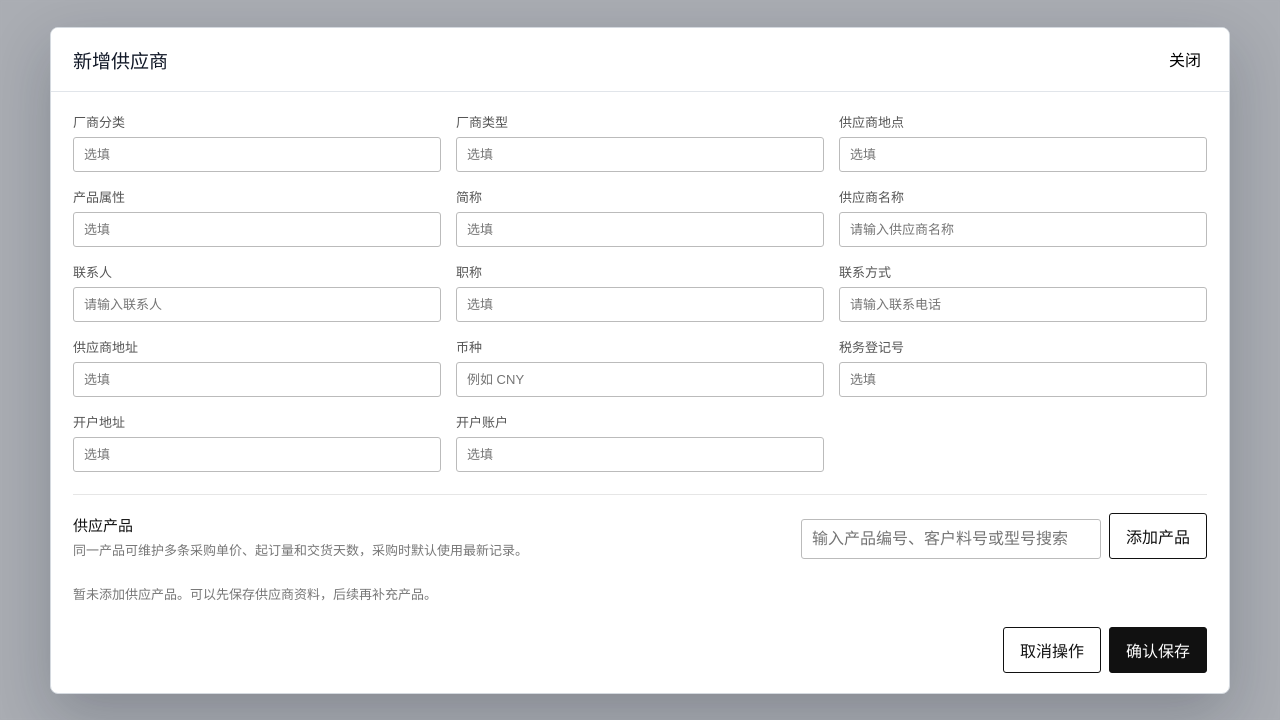
places product actions together in the product panel header
The image size is (1280, 720).
Type "P90" into the dropdown with placeholder "输入产品编号、客户料号或型号搜索".
click(951, 538); type("P90")  # box x1=801 y1=518 x2=1101 y2=558
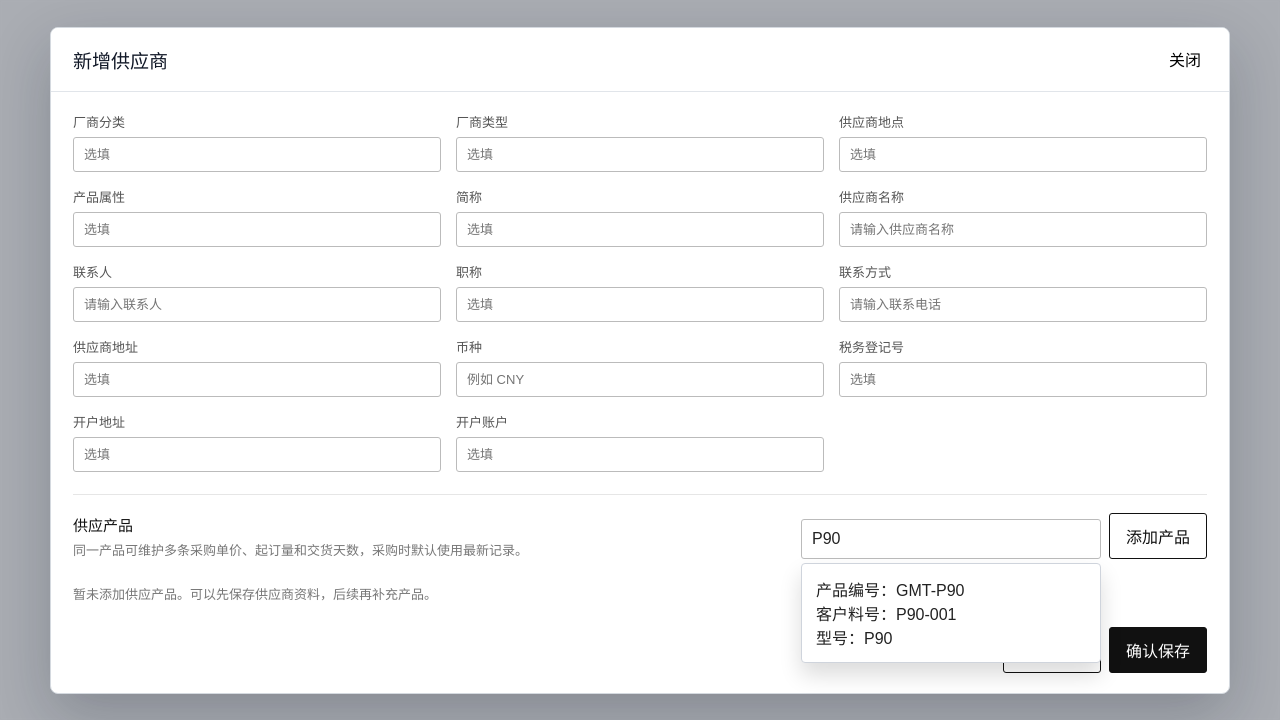
Click the option with test id "fuzzy-option-101".
click(951, 612)  # box x1=806 y1=568 x2=1096 y2=658
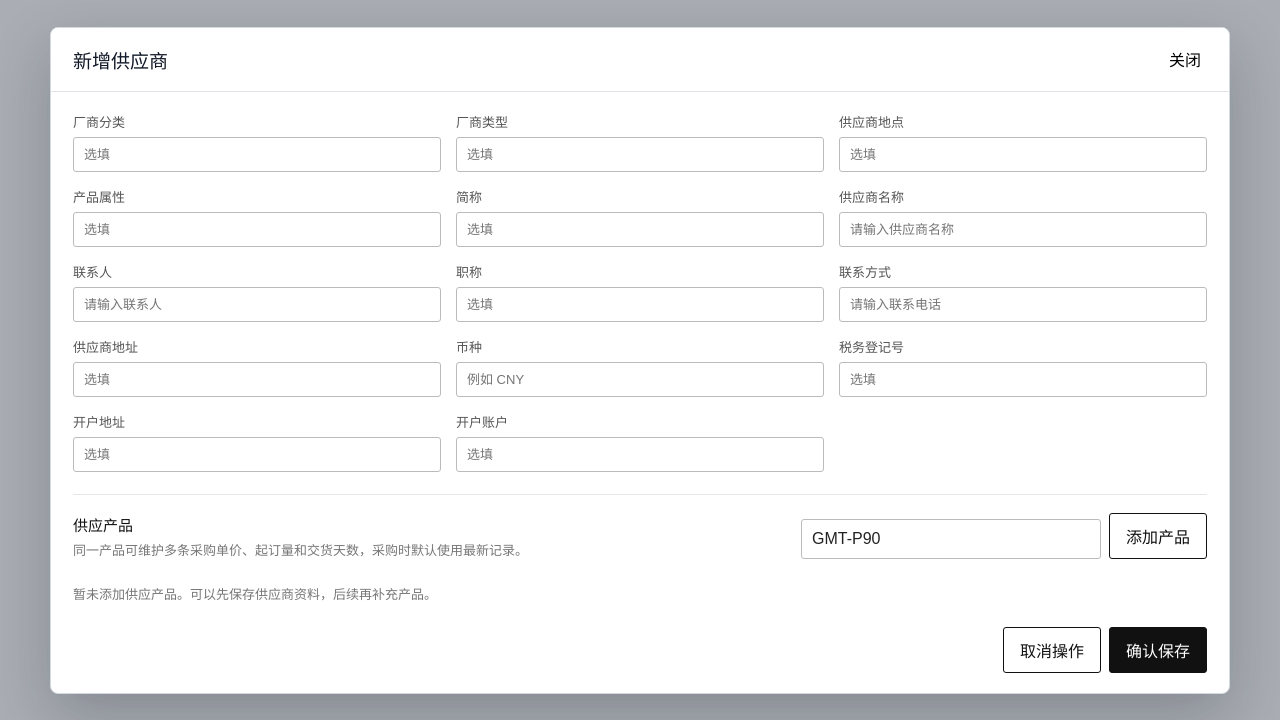
Click the button with test id "add-supplier-product".
click(1158, 536)  # box x1=1109 y1=512 x2=1207 y2=558
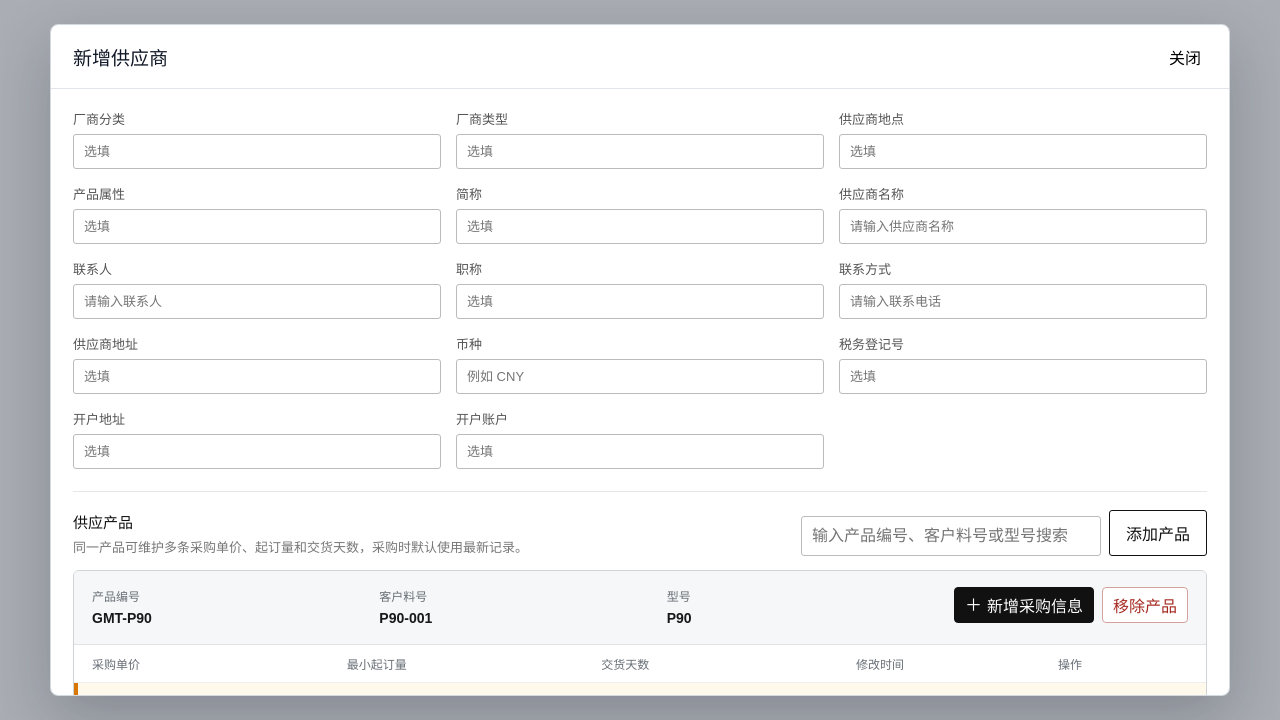
Expected: the header with test id "remove-supplier-product-101" is shown, x1=74 y1=571 x2=1206 y2=645
